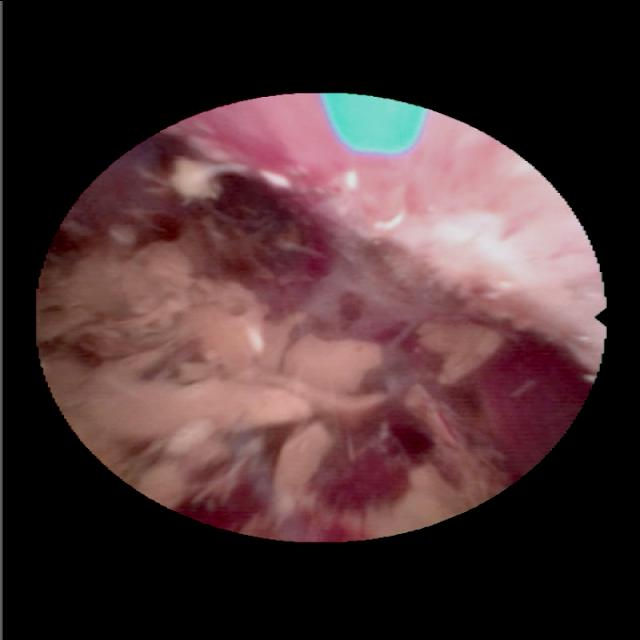fiber: (326, 95, 422, 149)
stone: (46, 221, 388, 513), (364, 465, 494, 535), (416, 320, 497, 381), (169, 157, 224, 200)
tissue: (184, 104, 599, 539)
